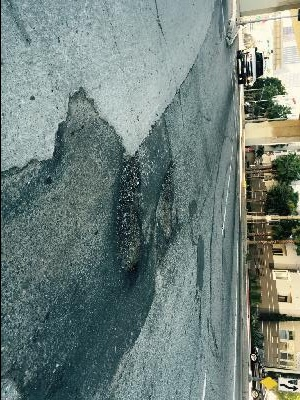pothole: (110, 149, 145, 277), (154, 156, 177, 241)
